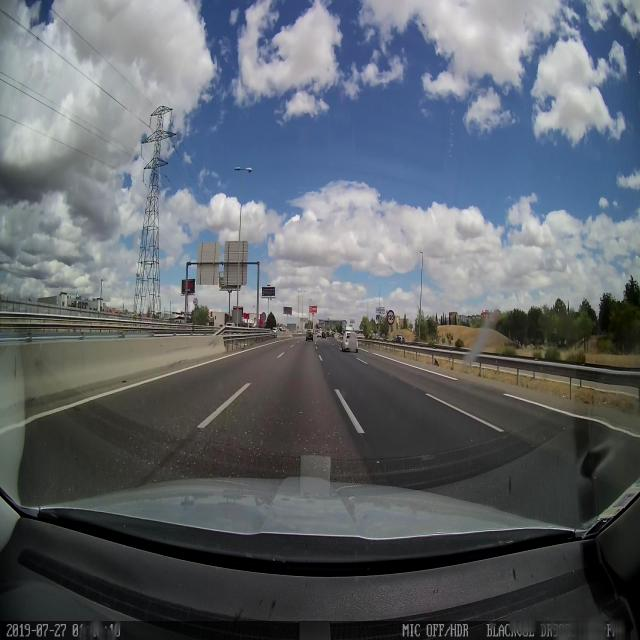car: (305, 327, 314, 341)
